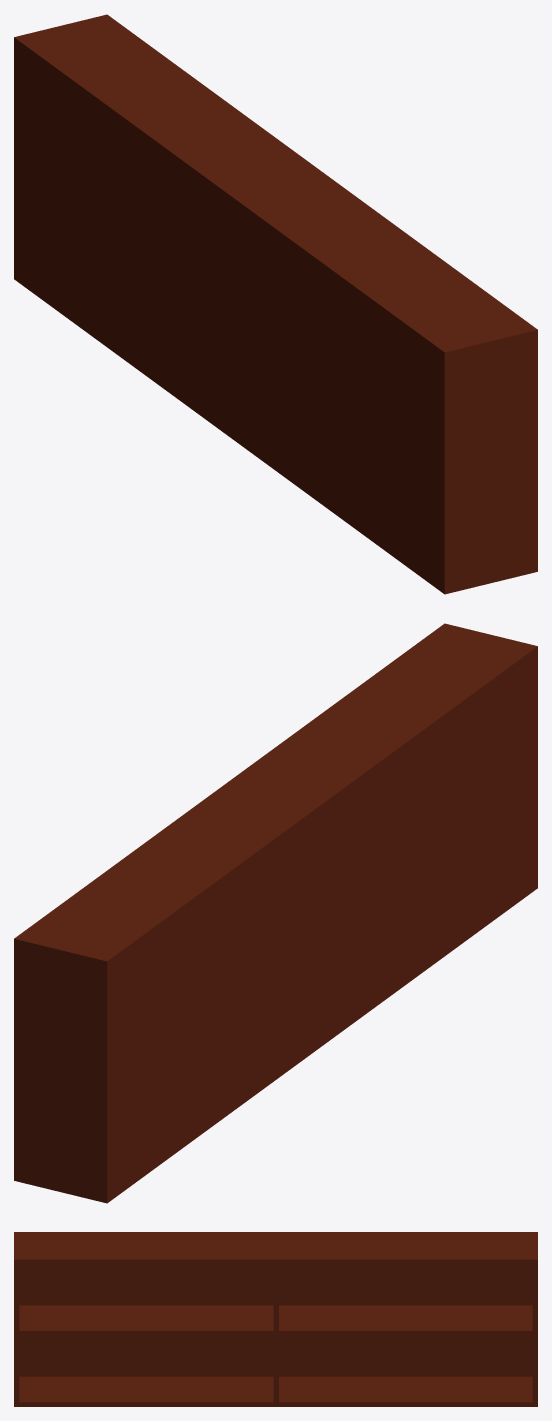
The model's file is muebleBajoTele.fbx.
3 views of the same model, one above another, from view 1: azimuth 30°, elevation 25°; view 2: azimuth 150°, elevation 25°; view 3: azimuth 270°, elevation 25° (orthographic). The views are drawn at different scales.
Visible parts, largest first — view 1: Mueble Bajo tele_1; view 2: Mueble Bajo tele_1; view 3: Mueble Bajo tele_1.
Part boxes in pixels (left/top/right/bottom): Mueble Bajo tele_1: left=14, top=14, right=537, bottom=594; Mueble Bajo tele_1: left=14, top=623, right=537, bottom=1203; Mueble Bajo tele_1: left=14, top=1232, right=537, bottom=1406.
Bounding box in the file's own units: 25 × 62 × 200.
